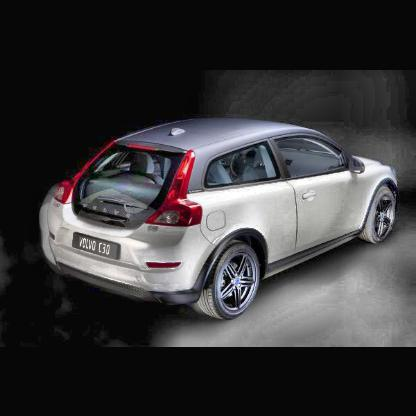Volvo C30 Hatchback 2012: (35, 114, 405, 322)
